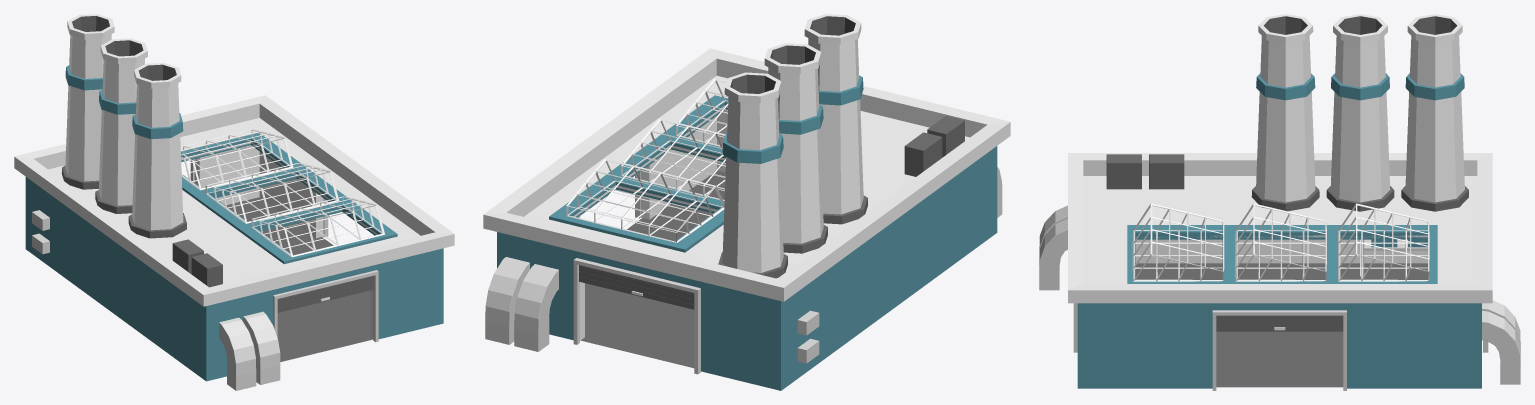
The model's file is CC_factory.fbx.
3 views of the same model, side by side, from view 1: azimuth 30°, elevation 25°; view 2: azimuth 150°, elevation 25°; view 3: azimuth 270°, elevation 25° (orthographic). The views are drawn at different scales.
Visible parts, largest first — view 1: Factory, Chimney, Glass roof, Floor, Roof bottom, Vent 1, Roof box, Cube.014, Door.001, Cube.010; view 2: Factory, Chimney, Floor, Glass roof, Roof bottom, Vent 2, Roof box, Door.002, Cube.017, Cube.010; view 3: Factory, Chimney, Floor, Glass roof, Roof bottom, Roof box, Vent 2, Cube.012, Vent 1, Door.
Part boxes in pixels (x1,y1,x2,y2): Factory: [14, 95, 454, 381]; Chimney: [61, 14, 186, 238]; Glass roof: [180, 129, 384, 257]; Floor: [226, 197, 373, 361]; Roof bottom: [181, 133, 397, 264]; Vent 1: [219, 311, 280, 390]; Roof box: [172, 239, 222, 287]; Cube.014: [277, 275, 373, 312]; Door.001: [273, 270, 378, 342]; Cube.010: [32, 210, 49, 254]; Factory: [483, 48, 1010, 390]; Chimney: [718, 14, 867, 278]; Floor: [581, 170, 725, 368]; Glass roof: [566, 78, 728, 242]; Roof bottom: [549, 95, 728, 252]; Vent 2: [485, 257, 558, 351]; Roof box: [904, 116, 964, 176]; Door.002: [573, 258, 700, 374]; Cube.017: [579, 265, 694, 309]; Cube.010: [797, 310, 819, 363]; Factory: [1068, 153, 1492, 388]; Chimney: [1251, 14, 1468, 211]; Floor: [1135, 263, 1427, 387]; Glass roof: [1132, 203, 1429, 281]; Roof bottom: [1127, 225, 1437, 283]; Roof box: [1106, 154, 1184, 189]; Vent 2: [1482, 300, 1520, 384]; Cube.012: [1216, 315, 1343, 331]; Vent 1: [1039, 205, 1067, 290]; Door: [1212, 310, 1346, 390].
Size of the model in its own units: 672 by 591 by 993.
